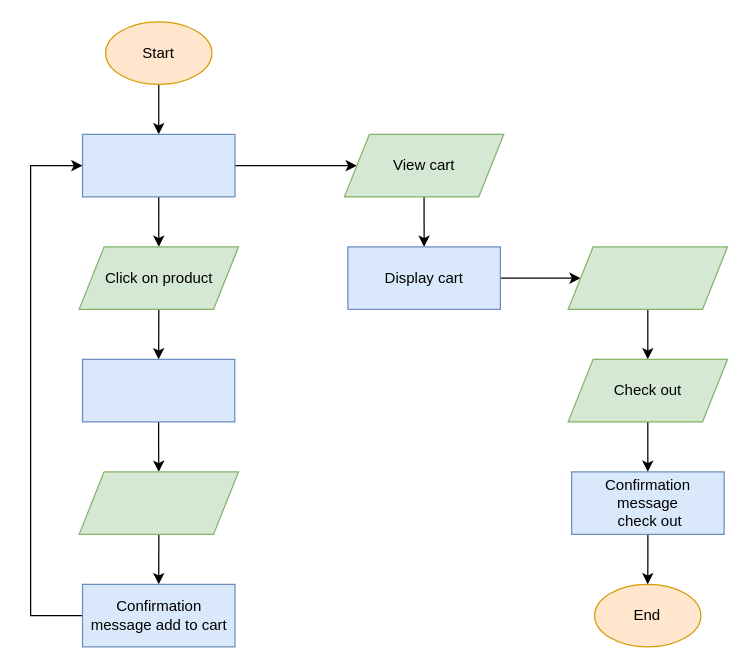
The diagram is 750 pixels wide and 669 high, and some of its shapes have lost their labels. Each missing label, with the box of its shape:
Add to cart: (78, 471, 238, 534)
Display product description: (81, 358, 235, 422)
Fill out personall information: (567, 246, 728, 309)
Show product list: (81, 133, 235, 197)
